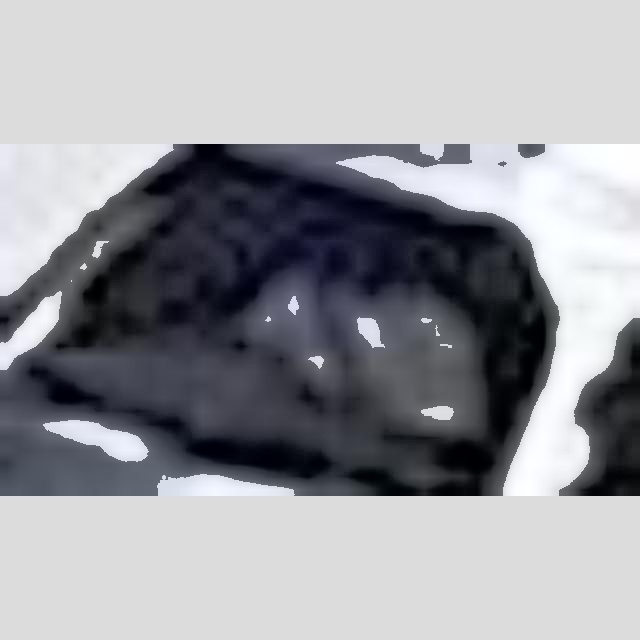pakai: (222, 235, 496, 418)
